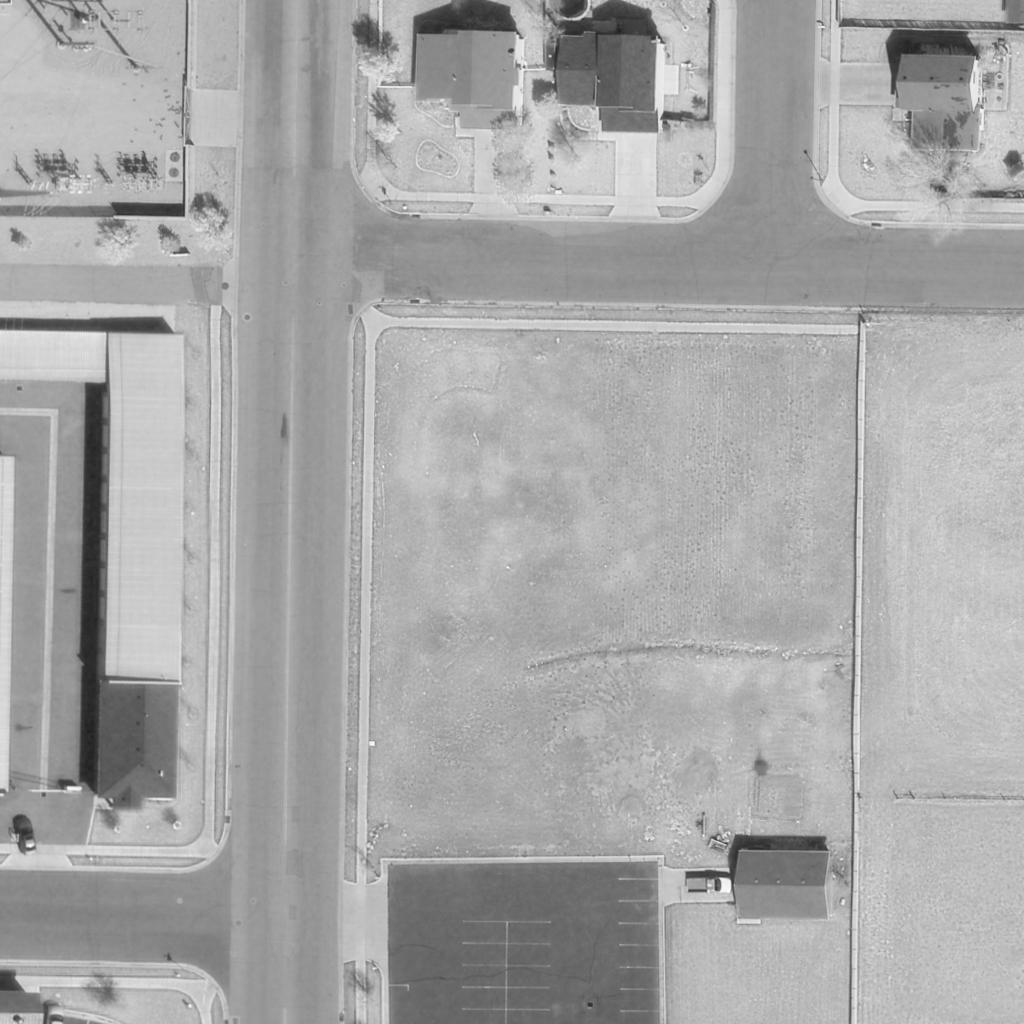vehicle: (14, 817, 38, 857), (685, 877, 731, 895)
